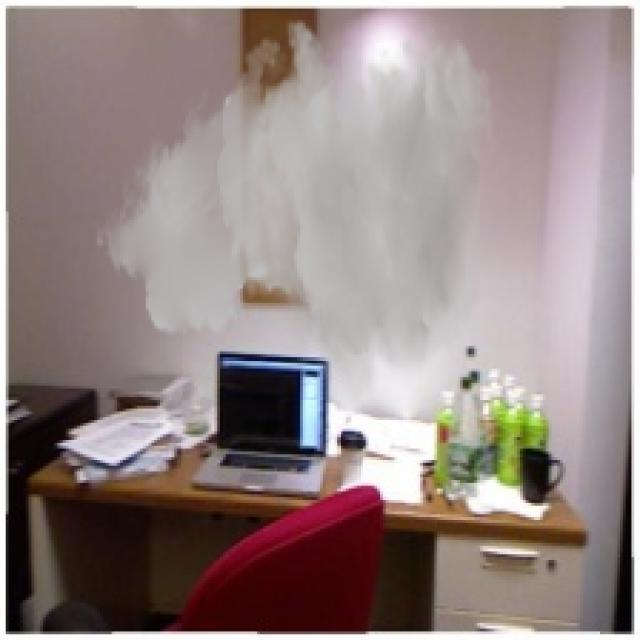smoke: (94, 17, 494, 423)
